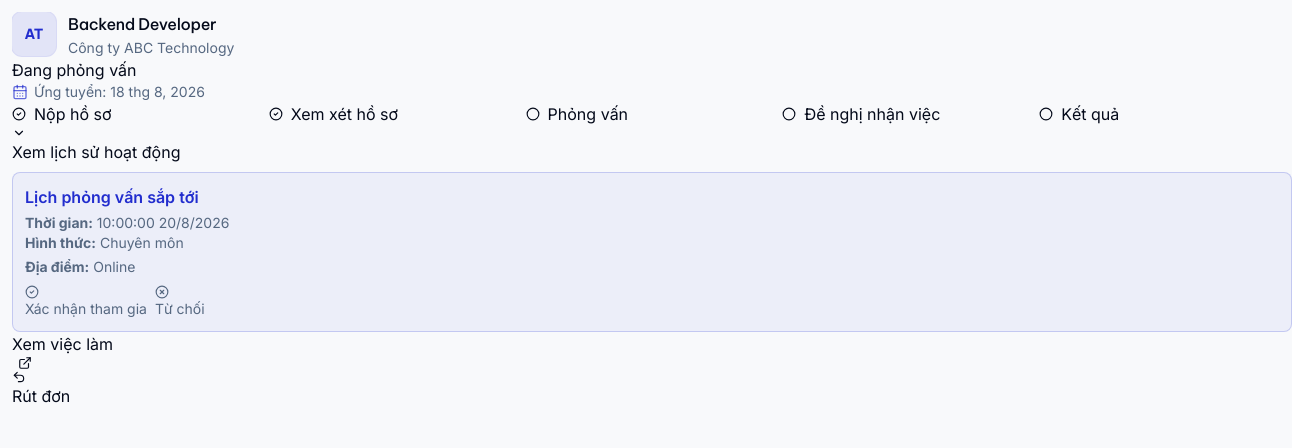
Scenario: ApplicationCard › Candidate interview actions › shows error state isolated by interview ID when confirm fails
Click the button "Xác nhận tham gia" at (86, 302), box [25,285,147,319]
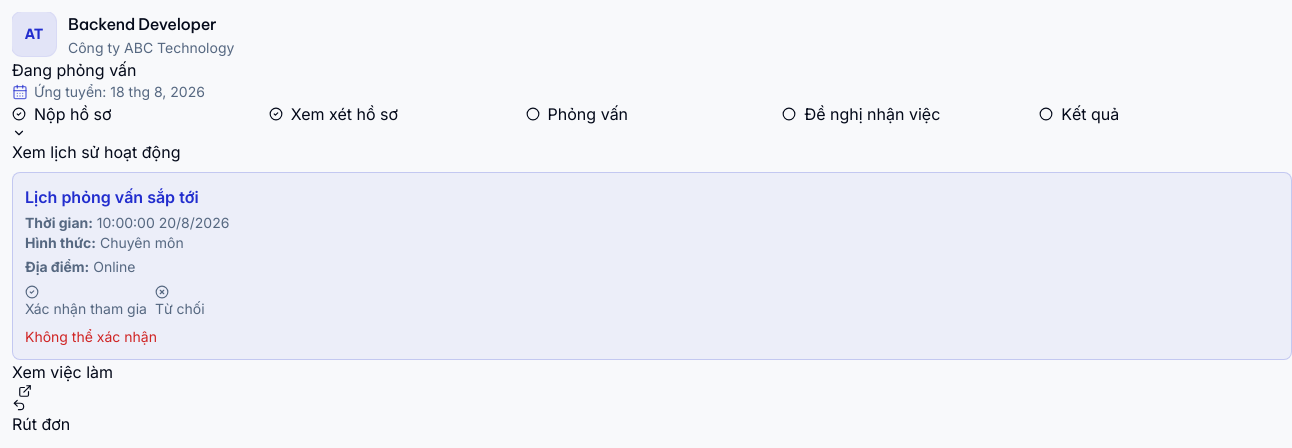
Expected: the text "Không thể xác nhận" is shown, [25,328,157,345]
